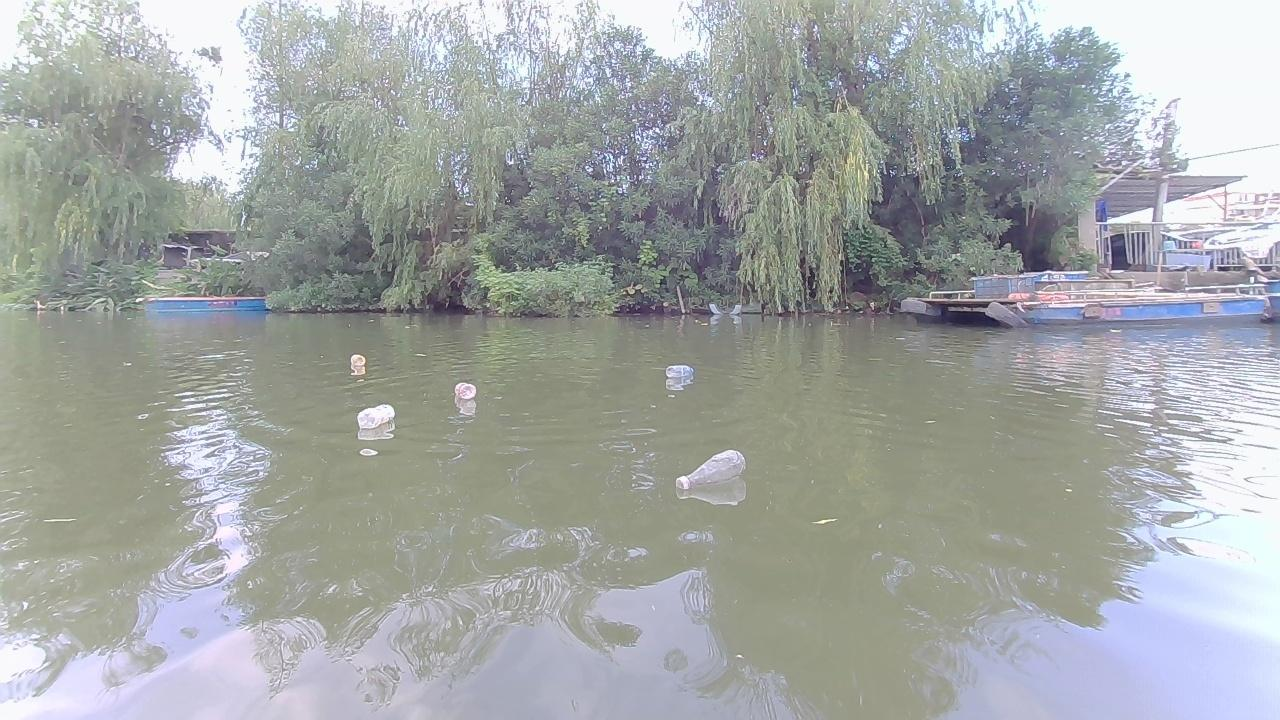bottle: (666, 449, 749, 490), (354, 399, 396, 430), (451, 377, 480, 401), (666, 362, 695, 384), (347, 351, 369, 371)
